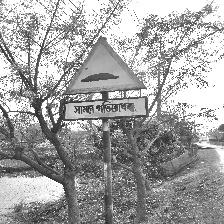Speed-breaker: (62, 35, 149, 122)
